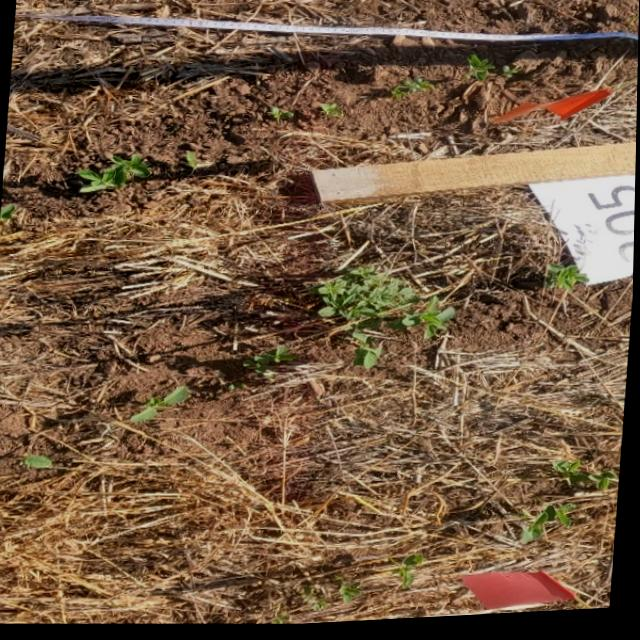caruru_weed: (319, 270, 456, 371), (547, 268, 589, 297)
soy_plant: (302, 578, 374, 617), (79, 155, 152, 193), (555, 465, 621, 497), (133, 387, 191, 422), (525, 510, 579, 547), (245, 348, 299, 378), (389, 557, 427, 592), (391, 80, 435, 103), (468, 58, 496, 86), (268, 108, 303, 125), (314, 104, 344, 121), (275, 607, 296, 627), (25, 454, 55, 468), (188, 153, 211, 169), (1, 203, 16, 219)
